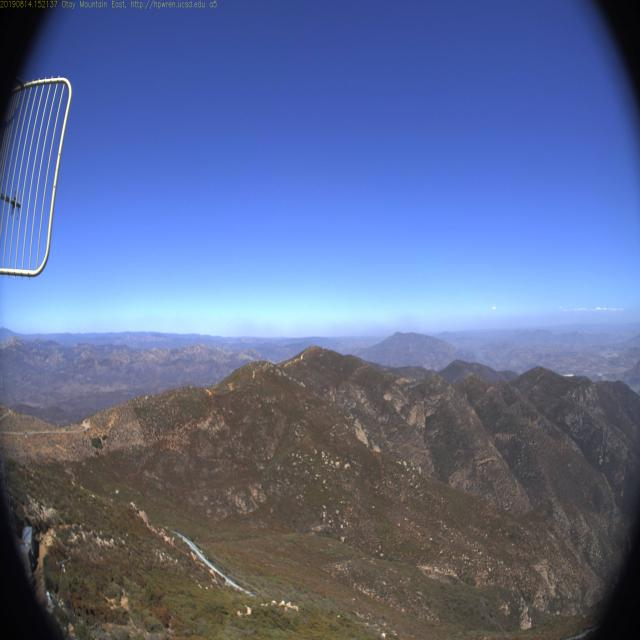smoke: (472, 340, 491, 368)
